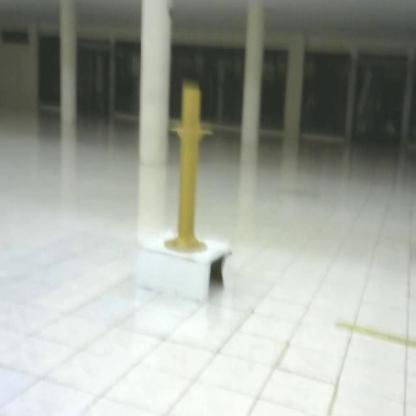pole: (158, 84, 216, 260)
